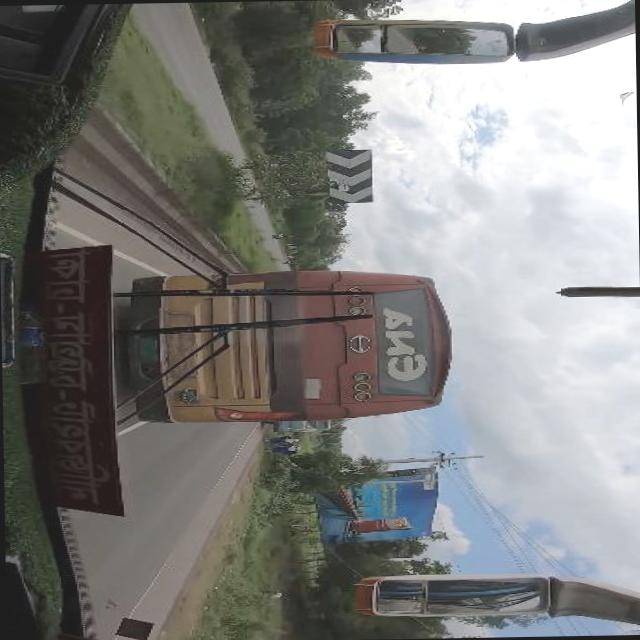bus: (132, 269, 456, 422), (263, 418, 333, 434)
motorcycle: (274, 234, 284, 240), (286, 262, 292, 266)
